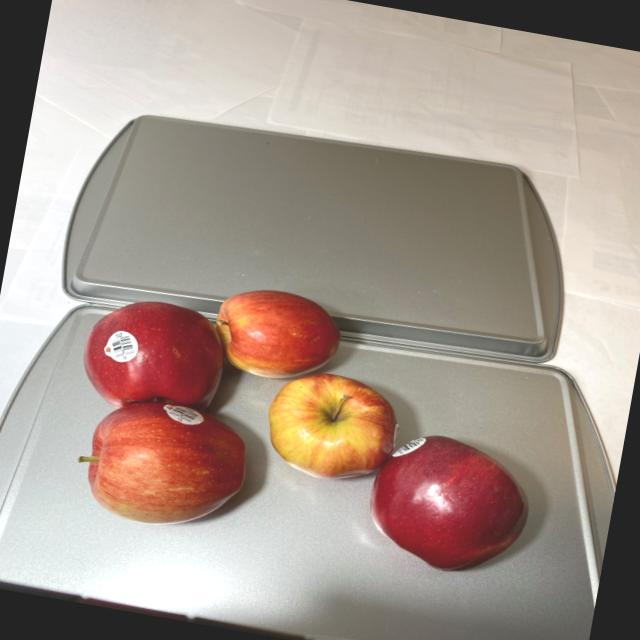apple: (55, 258, 562, 601)
